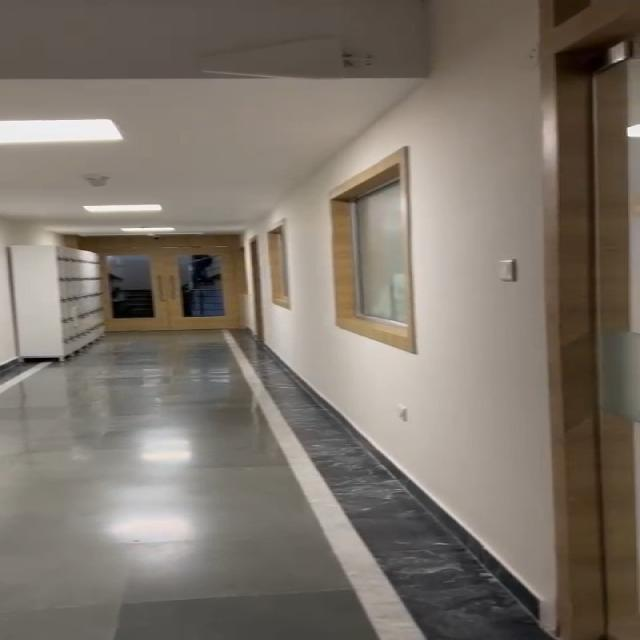door: (81, 227, 238, 334)
floor: (3, 361, 447, 640)
wall: (246, 126, 584, 443)
